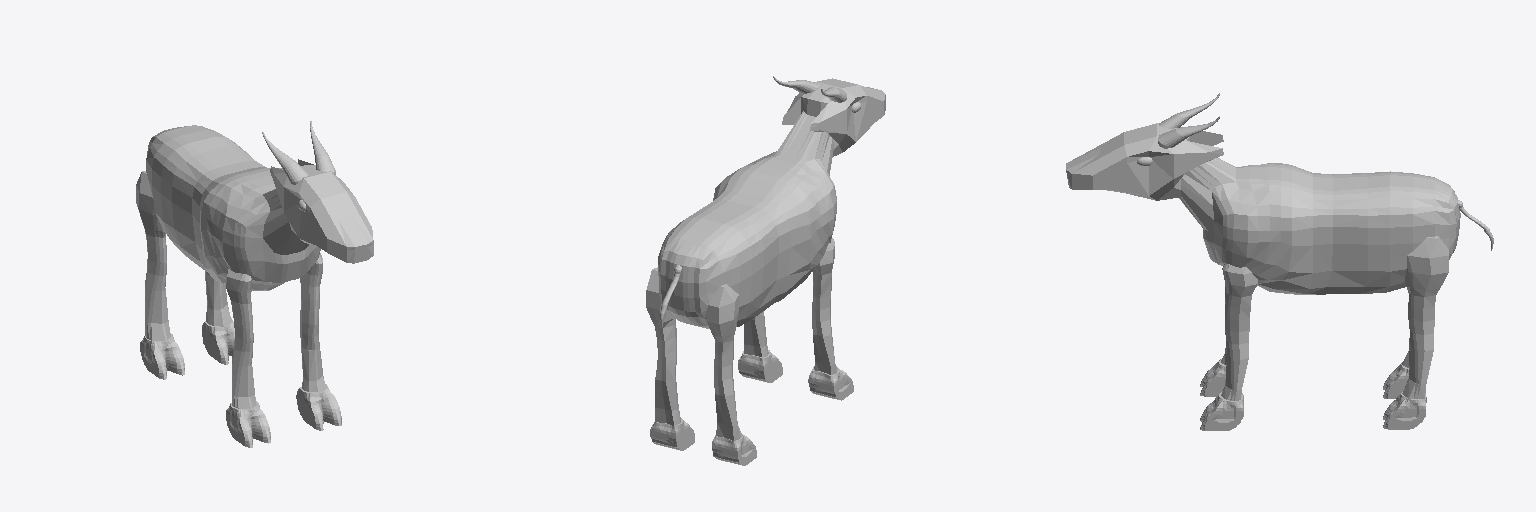
Rendered from Goat.obj.
3 views of the same model, side by side, from view 1: azimuth 30°, elevation 25°; view 2: azimuth 150°, elevation 25°; view 3: azimuth 270°, elevation 25° (orthographic).
Visible parts, largest first — view 1: polySurface10; view 2: polySurface10; view 3: polySurface10.
Boxes of the visible parts, <box> form: polySurface10: <box>136,121,373,447</box>; polySurface10: <box>646,76,885,465</box>; polySurface10: <box>1066,93,1493,430</box>.
Size of the model in its own units: 3.73 by 10.84 by 13.85.